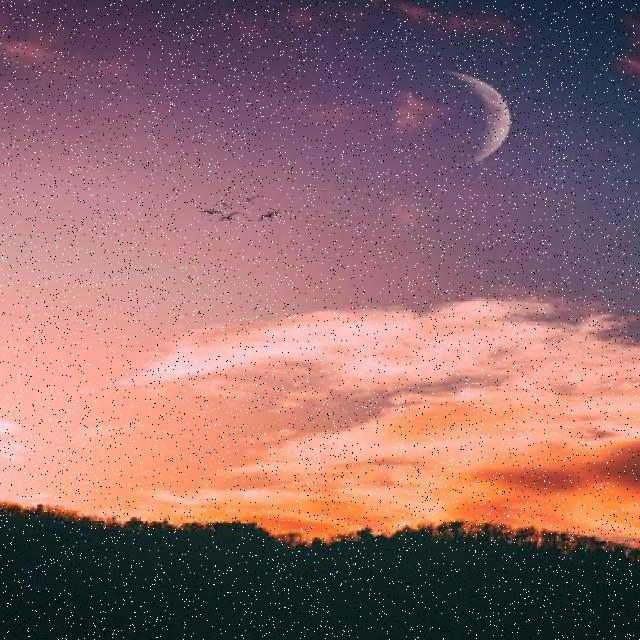bird: (217, 212, 240, 222), (258, 212, 280, 222), (236, 195, 262, 202), (198, 210, 224, 215), (217, 202, 232, 210)
